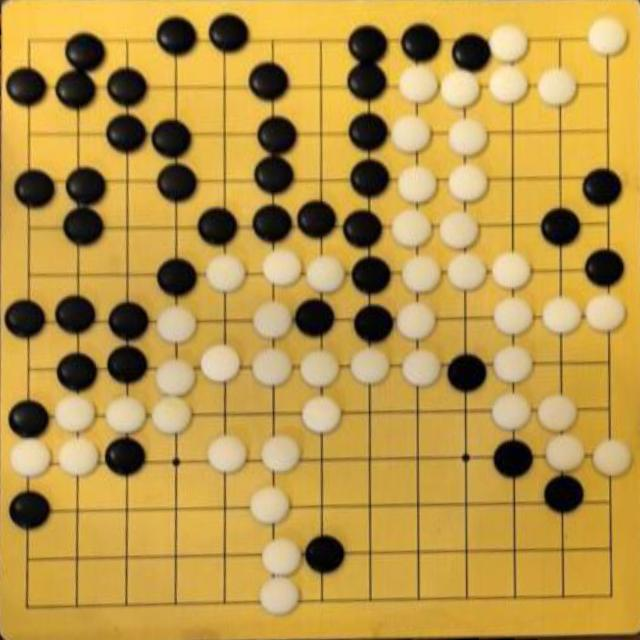blackstone: (57, 353, 99, 393), (493, 438, 535, 478), (55, 296, 98, 335), (8, 400, 51, 439), (544, 474, 585, 514), (108, 303, 150, 342), (107, 346, 149, 385), (446, 354, 488, 393), (156, 16, 198, 55), (15, 170, 56, 209), (540, 208, 581, 247), (157, 163, 198, 202), (105, 438, 146, 477), (5, 300, 47, 338), (157, 258, 199, 296), (106, 114, 148, 152), (56, 71, 98, 109), (151, 120, 193, 158), (107, 68, 149, 106), (294, 300, 336, 338), (347, 63, 389, 101), (8, 492, 50, 530), (65, 32, 107, 70), (208, 14, 250, 52), (585, 249, 625, 288), (583, 168, 623, 207), (354, 305, 394, 344), (305, 535, 345, 574), (7, 68, 48, 106), (351, 256, 392, 294), (451, 33, 492, 71), (401, 23, 442, 61), (63, 208, 105, 245), (66, 168, 108, 205), (248, 63, 290, 100), (253, 205, 293, 243), (350, 160, 390, 198), (255, 157, 295, 195), (296, 202, 338, 238), (256, 118, 298, 154), (198, 208, 238, 245), (343, 210, 383, 247), (348, 25, 389, 61), (349, 114, 389, 150)
whitestone: (104, 396, 147, 436), (9, 439, 52, 479), (200, 344, 243, 383), (151, 396, 192, 436), (545, 434, 586, 474), (55, 394, 96, 434), (391, 208, 432, 248), (398, 64, 439, 104), (58, 438, 100, 477), (492, 392, 532, 432), (252, 347, 292, 387), (488, 64, 528, 104), (493, 345, 534, 384), (537, 394, 578, 433), (206, 254, 247, 293), (584, 294, 625, 333), (261, 538, 302, 577), (592, 438, 633, 477), (156, 305, 198, 343), (155, 358, 197, 396), (493, 297, 535, 335), (250, 487, 290, 526), (448, 164, 488, 203), (207, 436, 248, 474), (253, 301, 294, 339), (541, 296, 582, 334), (439, 212, 480, 250), (440, 70, 481, 108), (259, 578, 300, 616), (303, 395, 342, 434), (350, 348, 390, 386), (401, 350, 441, 388), (396, 301, 436, 339), (300, 349, 340, 387), (492, 252, 532, 290), (446, 253, 486, 291), (401, 256, 441, 294), (448, 118, 488, 156), (391, 115, 431, 153), (537, 68, 577, 106), (306, 255, 345, 293), (261, 436, 301, 473), (397, 166, 437, 203), (588, 18, 626, 56), (262, 250, 302, 286), (489, 24, 528, 60)
